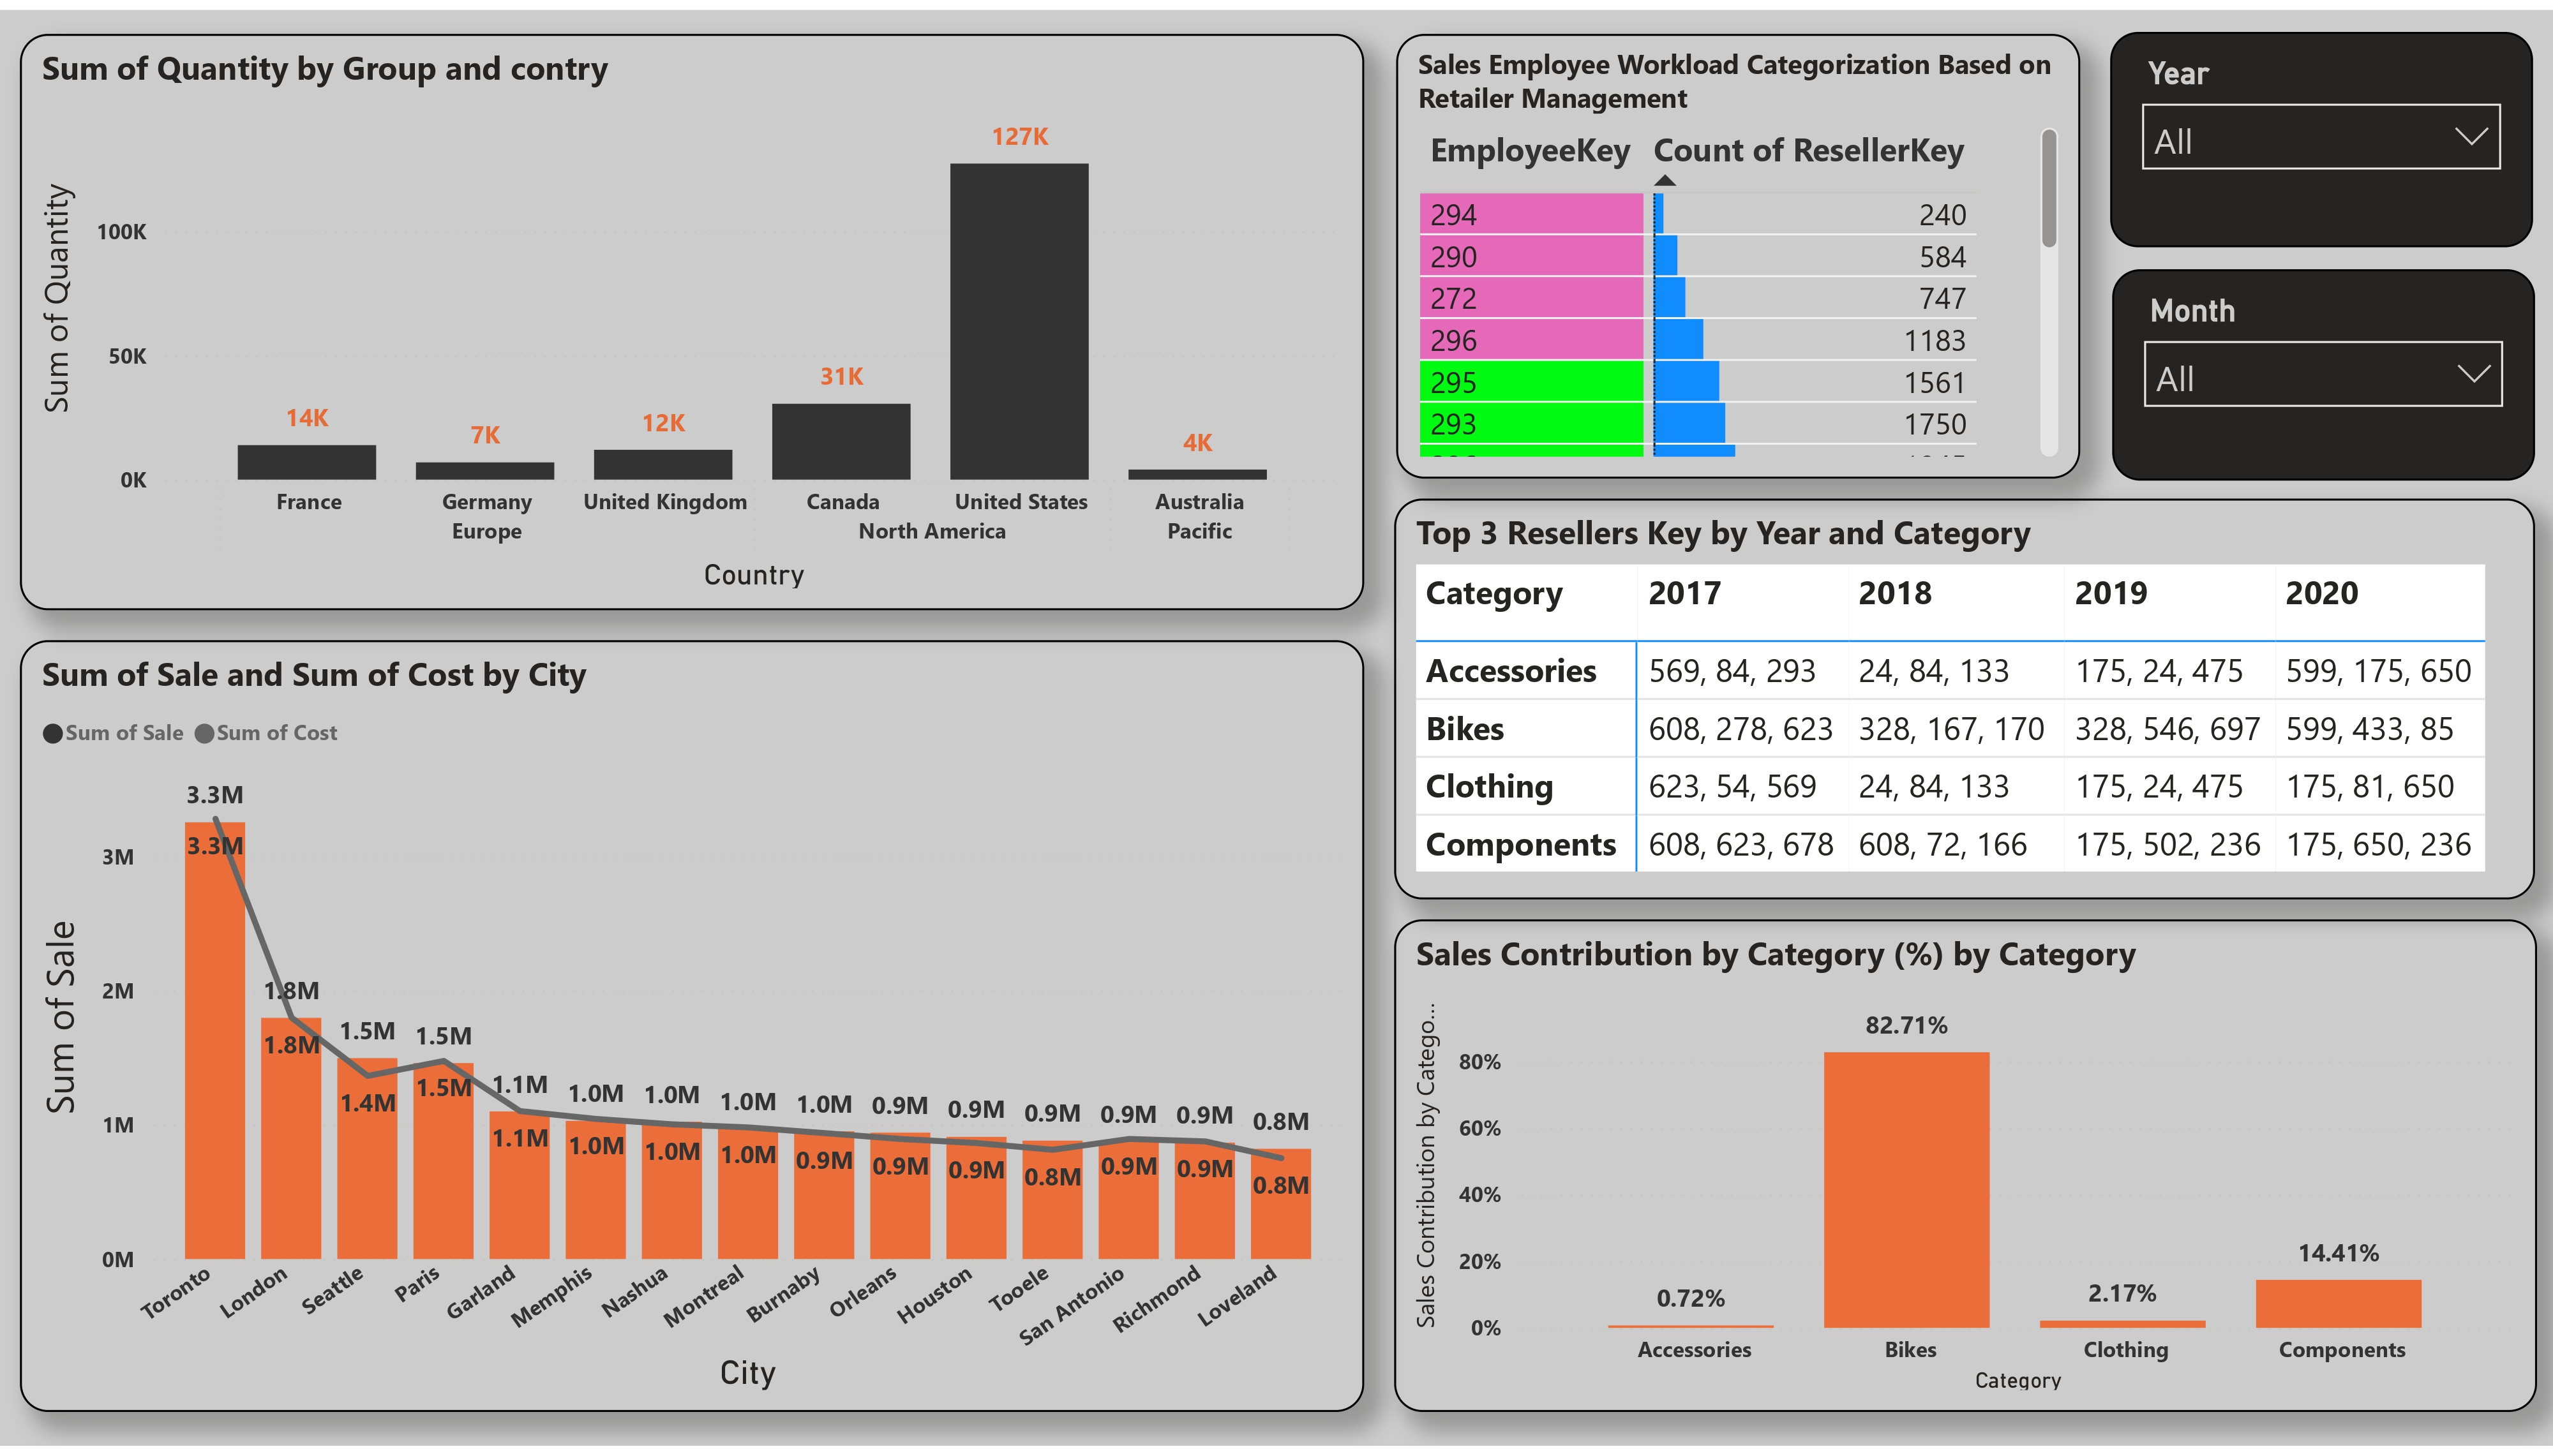

Layout of this report page (visuals, bound fields, positions):
{"tool":"powerbi","page":{"name":"4","canvas":[1280,720],"ordinal":3},"visuals":[{"type":"clusteredColumnChart","title":"Sum of Quantity by Group and contry","fields":{"Category":["Sales.Group","Sales.Country"],"Y":["Sum(Sales.Quantity)"]},"box":[10.4,11.9,674,289.5],"z":0},{"type":"lineClusteredColumnComboChart","fields":{"Category":["Reseller.City"],"Y":["Sum(Sales.Sale)"],"Y2":["Sum(Sales.Cost)"]},"box":[10.4,316.2,674,387.5],"z":1000},{"type":"tableEx","title":"Sales Employee Workload Categorization Based on Retailer Management","fields":{"Values":["Sales.EmployeeKey","Sales.ResellerKey"]},"box":[699.7,12.1,342.6,223.2],"z":2000},{"type":"slicer","fields":{"Values":["Sales.Order Date.Variation.Date Hierarchy.Year"]},"box":[1058.1,11.4,211.9,108.1],"z":3000},{"type":"slicer","fields":{"Values":["Sales.Order Date.Variation.Date Hierarchy.Month"]},"box":[1059.1,130.1,212.3,105.5],"z":4000},{"type":"pivotTable","title":"Top 3 Resellers Key by Year and Category","fields":{"Rows":["Sales.Category"],"Values":["Table.TopResellersIDbyYear"],"Columns":["Sales.Order Date.Variation.Date Hierarchy.Year"]},"box":[698.5,244.9,571.9,201.5],"z":5000},{"type":"lineStackedColumnComboChart","fields":{"Category":["Sales.Category","Sales.Subcategory"],"Y":["Table.Sales Contribution by Category (%)"]},"box":[698.5,456,573.1,247.3],"z":6000}]}

Visuals, with their boxes in screenshot pixels (x1, y1, x2, y2), scaled from the page's 1280x720 canvas onto the 2553x1456 screenshot:
"Sum of Quantity by Group and contry" clusteredColumnChart: (x1=20, y1=24, x2=1365, y2=609)
lineClusteredColumnComboChart - Reseller.City x Sum(Sales.Sale): (x1=20, y1=639, x2=1365, y2=1423)
"Sales Employee Workload Categorization Based on Retailer Management" tableEx: (x1=1396, y1=24, x2=2079, y2=476)
slicer - Sales.Order Date.Variation.Date Hierarchy.Year: (x1=2111, y1=23, x2=2533, y2=242)
slicer - Sales.Order Date.Variation.Date Hierarchy.Month: (x1=2113, y1=263, x2=2536, y2=477)
"Top 3 Resellers Key by Year and Category" pivotTable: (x1=1393, y1=495, x2=2534, y2=903)
lineStackedColumnComboChart - Sales.Category x Sales.Subcategory: (x1=1393, y1=922, x2=2536, y2=1422)
